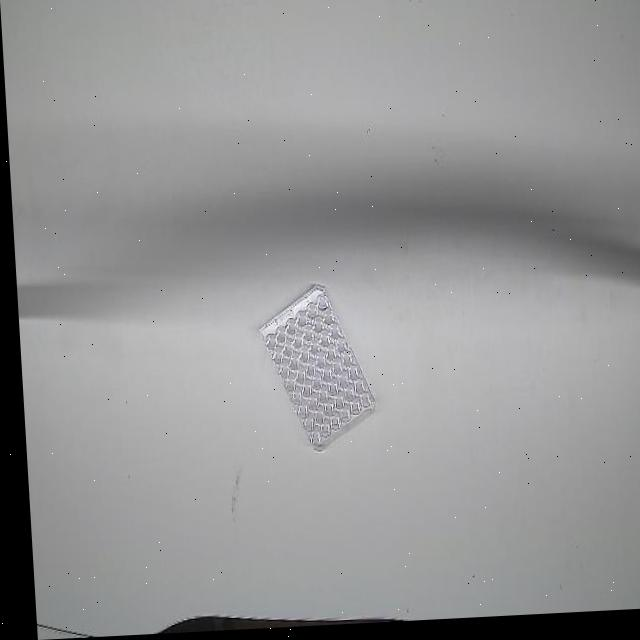Cell Culture Plate - 24: (248, 278, 376, 460)
